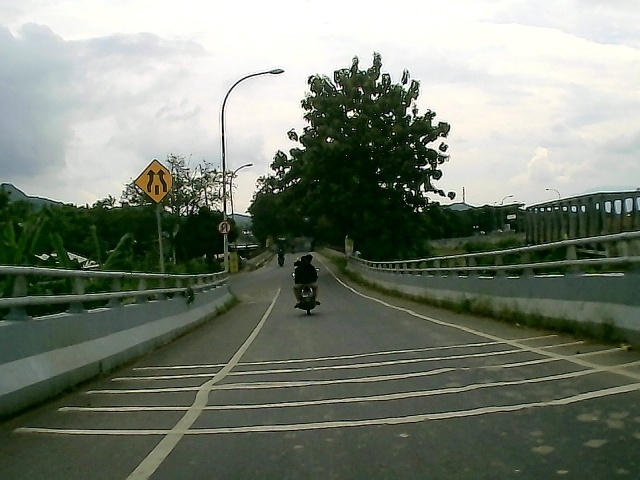Akhir bangunan pemisah satu arah: (132, 157, 179, 204)
Dilarang berbalik arah: (217, 219, 234, 236)
